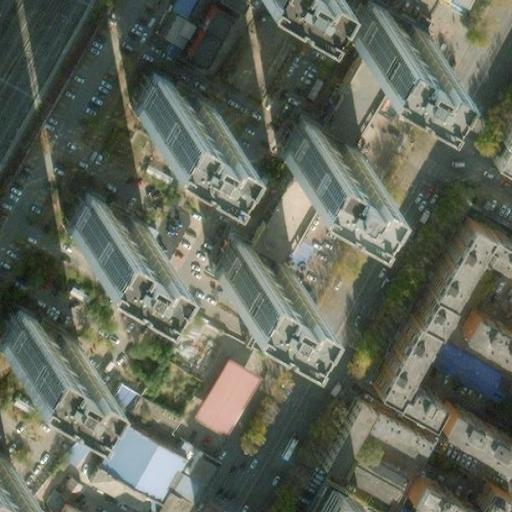building: (370, 212, 490, 395), (315, 387, 423, 497), (87, 410, 177, 492), (246, 171, 323, 263), (156, 303, 245, 378), (278, 109, 365, 184), (131, 65, 218, 140), (209, 235, 296, 310), (66, 185, 153, 260), (0, 305, 80, 380), (426, 334, 512, 403), (146, 424, 213, 512), (401, 468, 510, 512), (435, 396, 512, 458), (187, 348, 251, 421), (116, 388, 180, 440), (456, 299, 512, 355), (484, 95, 512, 172), (392, 373, 440, 415), (296, 478, 351, 512), (477, 225, 512, 265), (0, 453, 24, 510)
